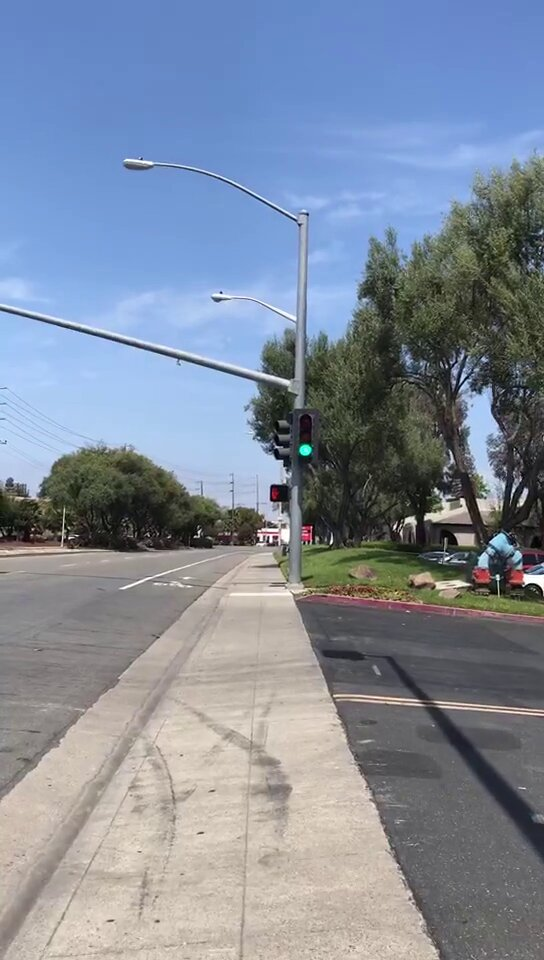green_light: (293, 409, 317, 463)
